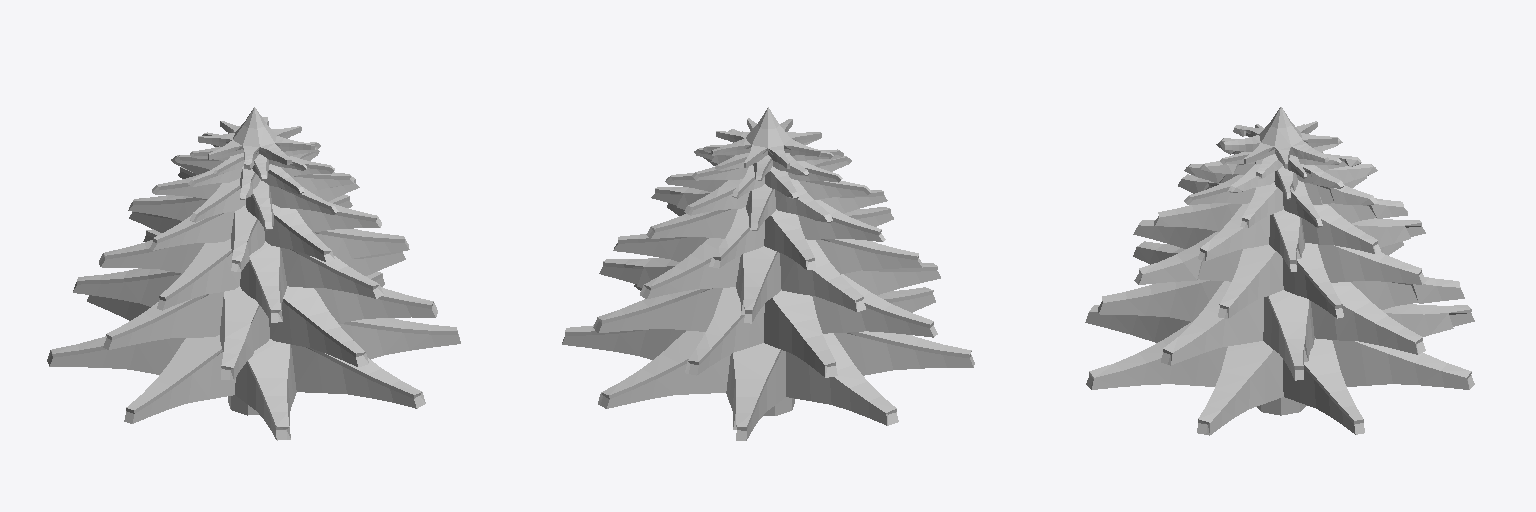
File: Tree-Bare.obj
3 views of the same model, side by side, from view 1: azimuth 30°, elevation 25°; view 2: azimuth 150°, elevation 25°; view 3: azimuth 270°, elevation 25° (orthographic).
Parts seen in each view (by area): view 1: Tree-Bare_Cube; view 2: Tree-Bare_Cube; view 3: Tree-Bare_Cube.
Part boxes in pixels (bbox=[...]): Tree-Bare_Cube: bbox=[47, 107, 460, 440]; Tree-Bare_Cube: bbox=[562, 107, 974, 440]; Tree-Bare_Cube: bbox=[1085, 107, 1474, 435].
Bounding box in the file's own units: 6.59 × 5.58 × 6.59.